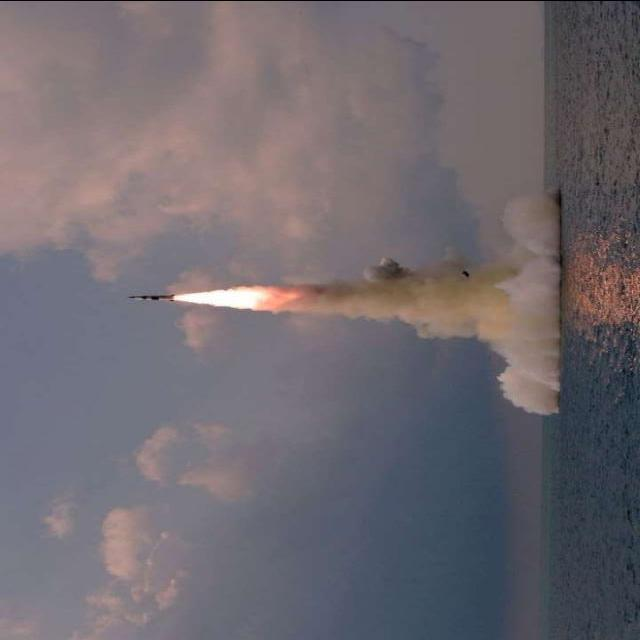Missile: (124, 292, 180, 302)
